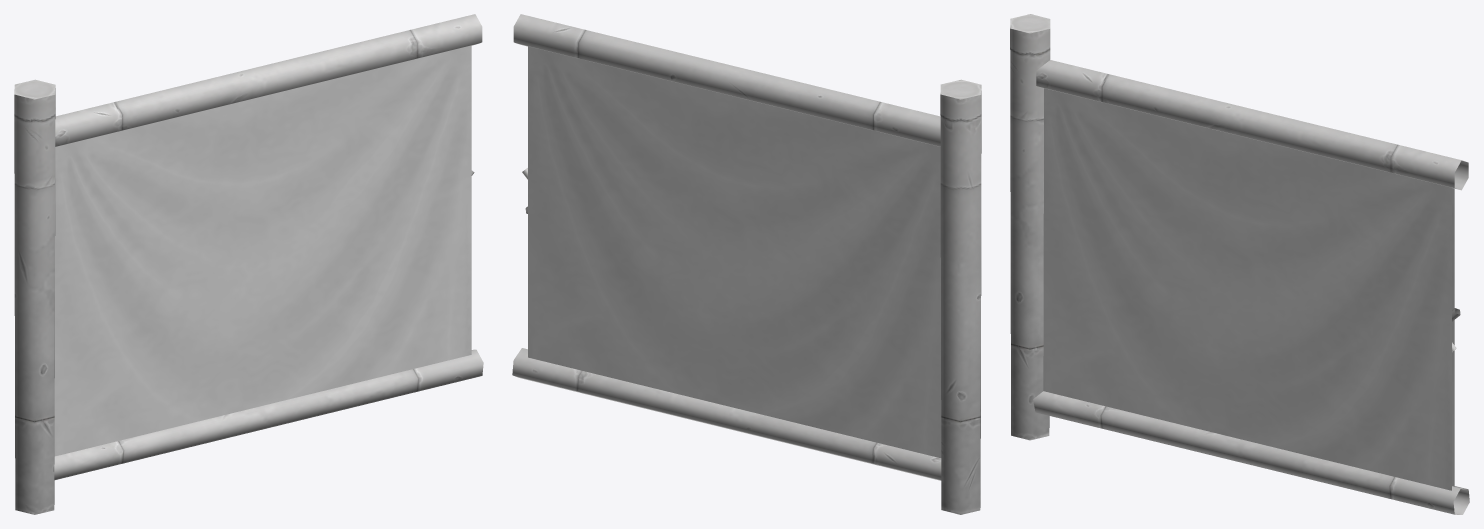
The model's file is Pfb_Barbed_Green.fbx.
3 renders of one model, left to right at view 1: azimuth 30°, elevation 25°; view 2: azimuth 150°, elevation 25°; view 3: azimuth 330°, elevation 25°, orthographic. The views are drawn at different scales.
Visible parts, largest first — view 1: Mat_Fabric_01_1 3, Mat_BarbedWire_01; view 2: Mat_Fabric_01_1 3, Mat_BarbedWire_01; view 3: Mat_Fabric_01_1 3, Mat_BarbedWire_01.
Boxes of the visible parts, x1=… form: Mat_Fabric_01_1 3: x1=54, y1=45, x2=471, y2=456; Mat_BarbedWire_01: x1=14, y1=14, x2=483, y2=514; Mat_Fabric_01_1 3: x1=528, y1=46, x2=941, y2=458; Mat_BarbedWire_01: x1=512, y1=14, x2=981, y2=514; Mat_Fabric_01_1 3: x1=1043, y1=88, x2=1454, y2=490; Mat_BarbedWire_01: x1=1010, y1=14, x2=1469, y2=514.
Size of the model in its own units: 2.32 by 2 by 0.179.
Materials: 2 (2 with a texture image).
